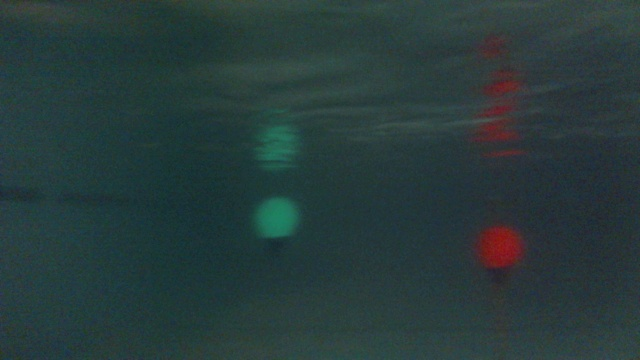buoy_green: (247, 189, 299, 254)
buoy_red: (475, 226, 519, 275)
